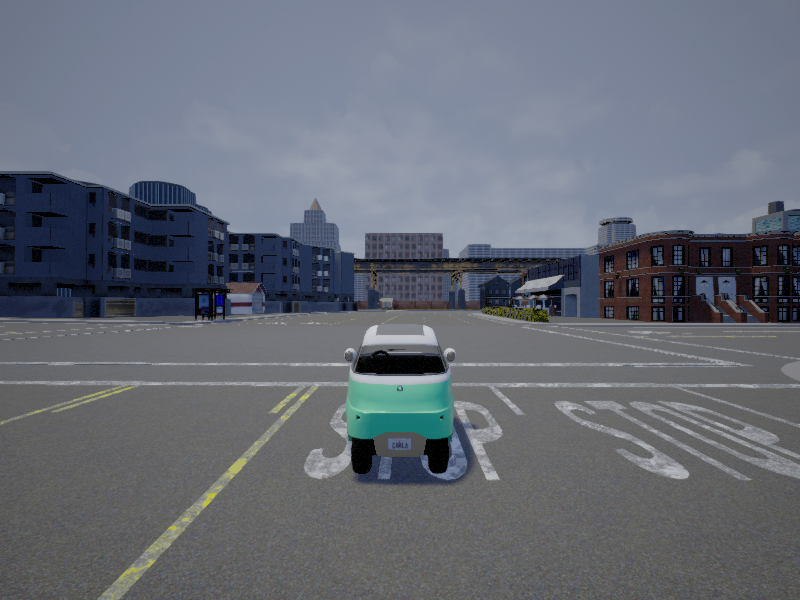Benign: (346, 326, 457, 474)
